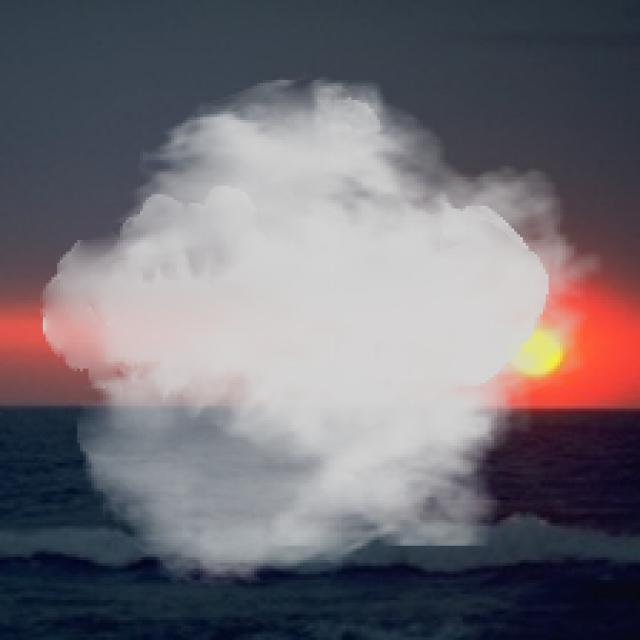Smoke: (40, 71, 606, 592)
